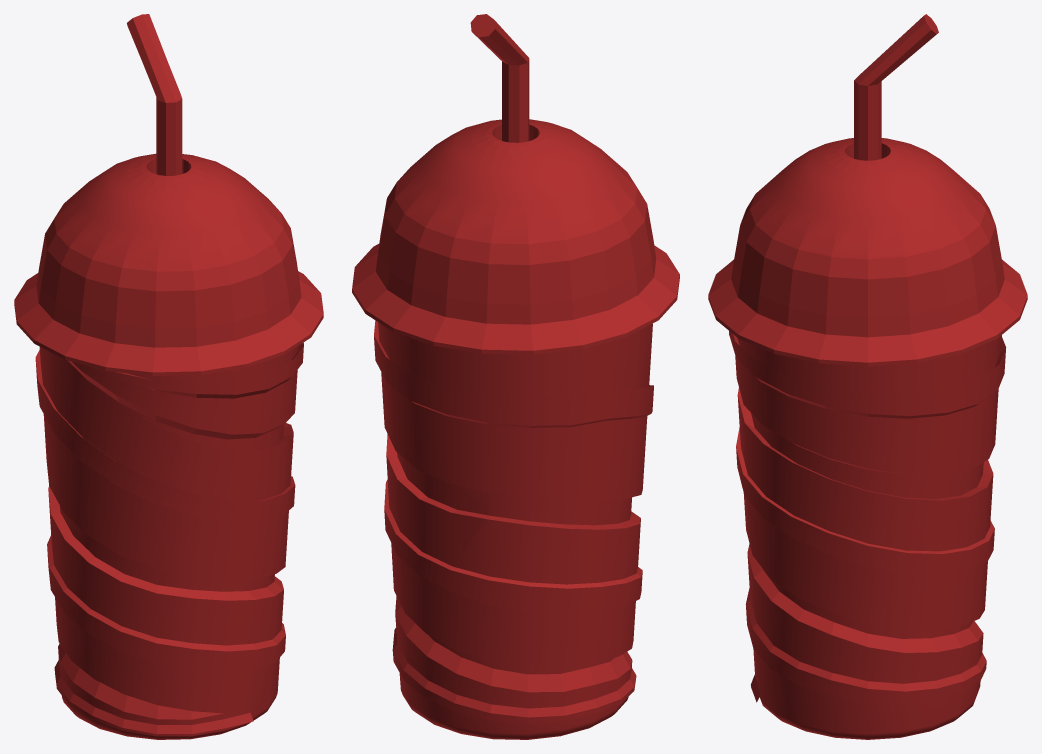
Rendered from Slushie.fbx.
The picture shows the model from 3 angles, left to right: view 1: azimuth 30°, elevation 25°; view 2: azimuth 150°, elevation 25°; view 3: azimuth 270°, elevation 25°; orthographic projection. The views are drawn at different scales.
Parts seen in each view (by area): view 1: pCylinder27; view 2: pCylinder27; view 3: pCylinder27.
Boxes of the visible parts, x1=… form: pCylinder27: x1=14, y1=14, x2=323, y2=739; pCylinder27: x1=352, y1=14, x2=679, y2=739; pCylinder27: x1=708, y1=14, x2=1027, y2=739.
Bounding box in the file's own units: 2.14 × 5.02 × 2.14.
